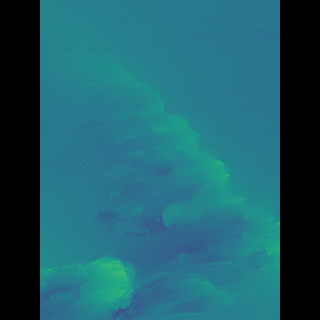Loch: (78, 56, 252, 320)
